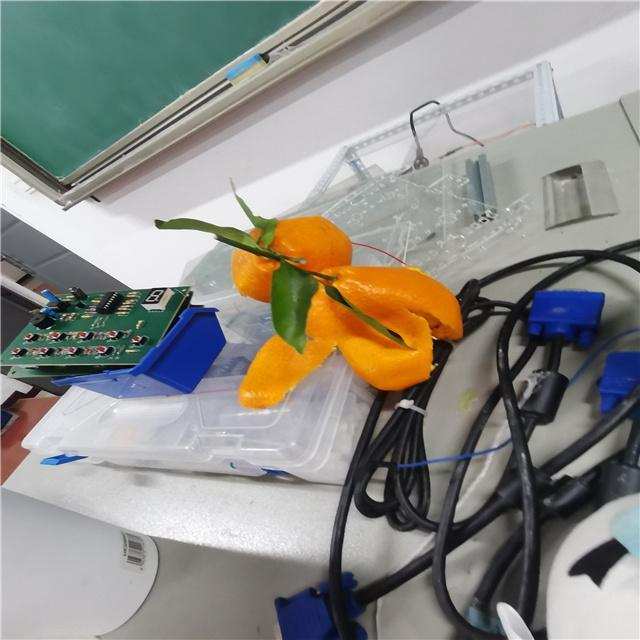orange-peel: (228, 211, 463, 409)
